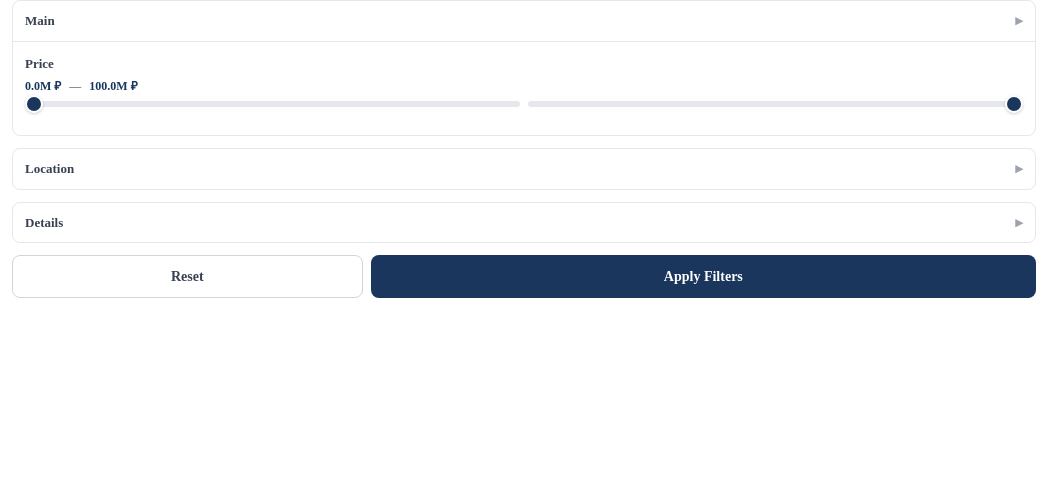
Test: FilterPanel › toggles details section
Step 1. Click the text "Details" → (44, 222), box x1=25 y1=212 x2=63 y2=232
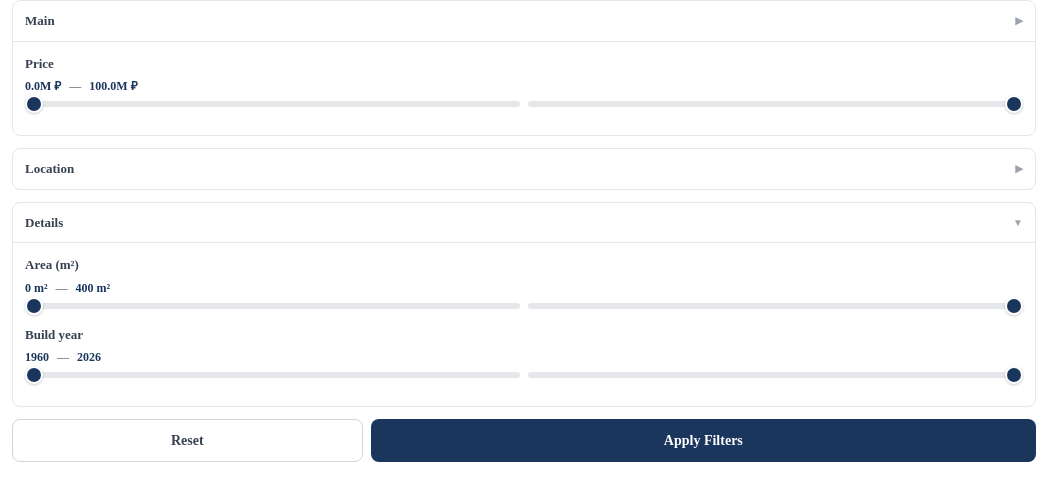
Expected: the text "▼" is shown, x1=1013 y1=215 x2=1023 y2=230
